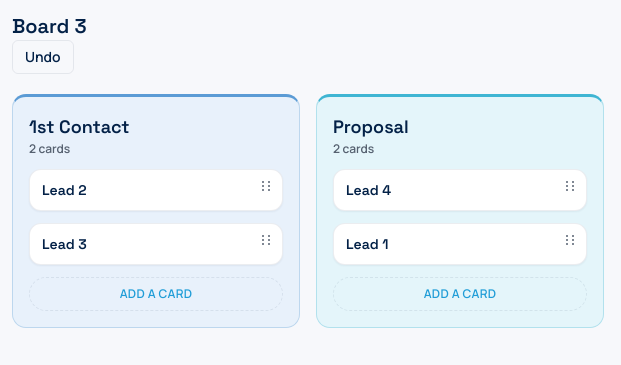
Test: CentralBoardView undo › undoes a move between columns: POST, then the board is re-read and shows the restored order
Expected: the text "Lead 1" is shown, 346,235 -> 388,253
Click the button "Undo" at coordinates (43, 57), box 12,40 -> 74,74
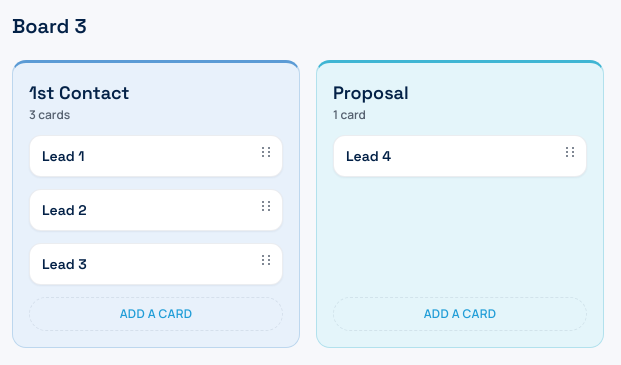
Expected: the button "Undo" is gone
